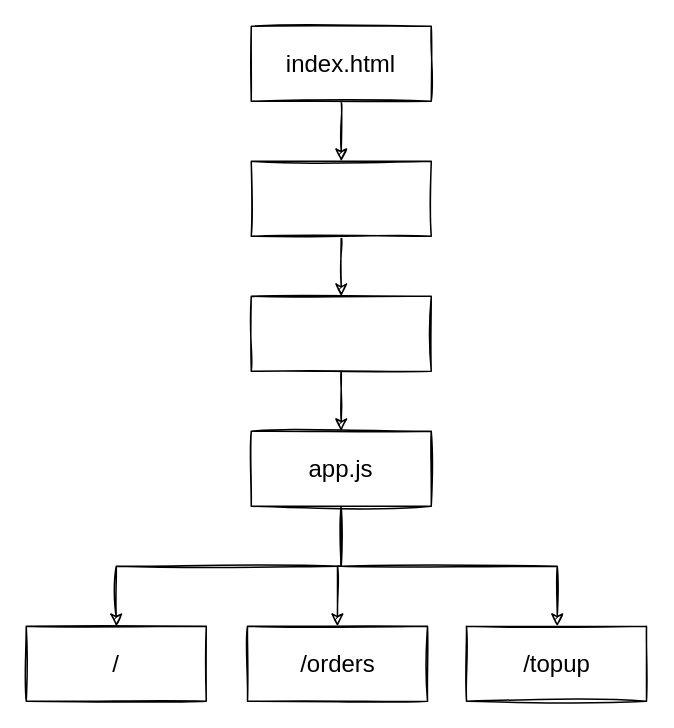
The diagram is 674 pixels wide and 728 high, and some of its shapes have lost their labels. Here are the shapes that lost their labels. From the top down, the centre of each, then its label:
At (340,198): "main.js".
At (340,333): "client_entry.js".
